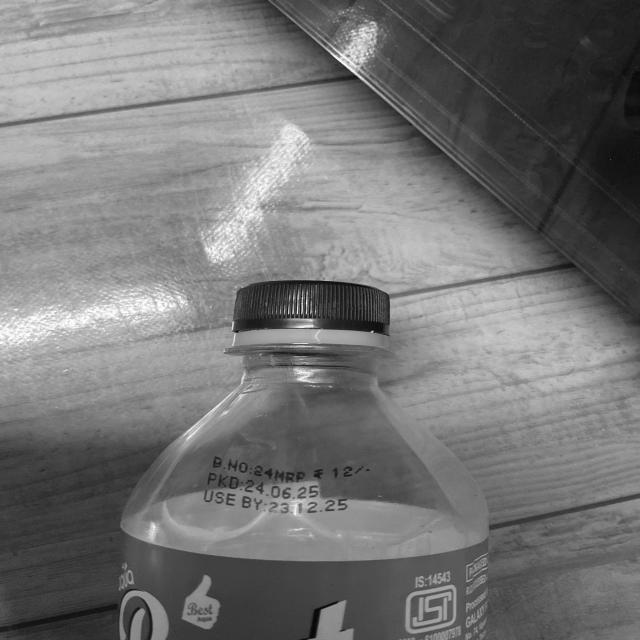Good-cap-Df0S: (229, 278, 398, 355)
